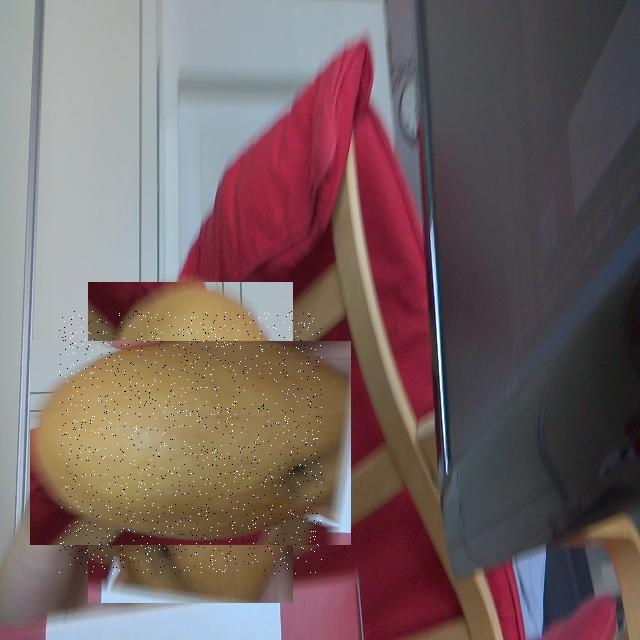pear: (59, 311, 322, 574)
